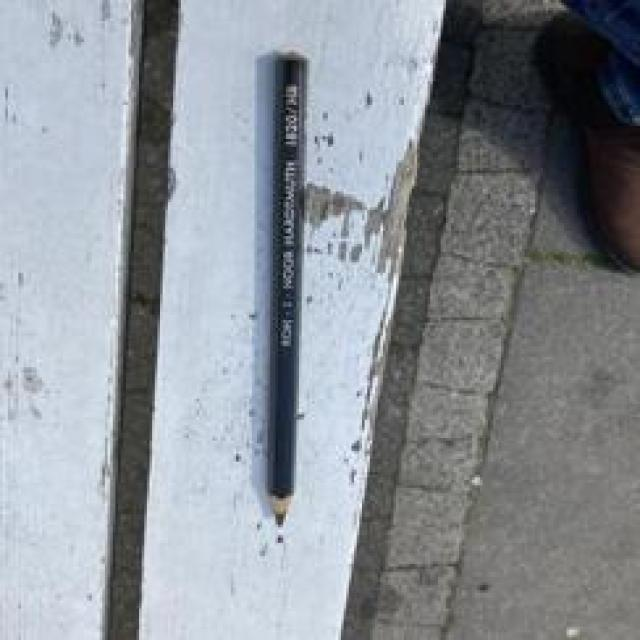pencil: (270, 65, 304, 532)
